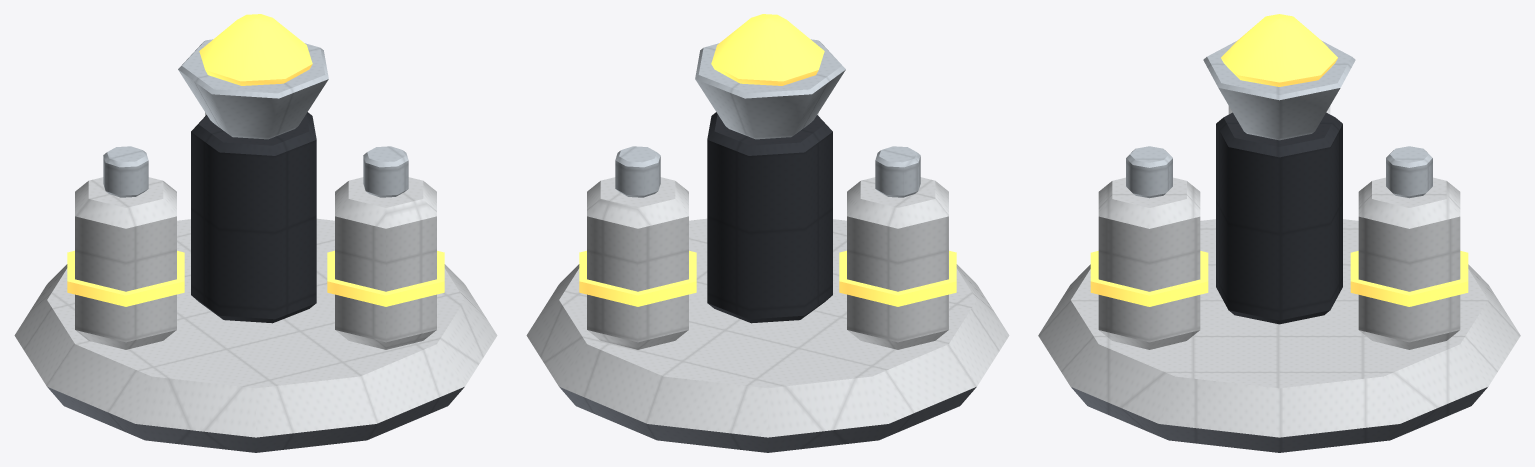
Rendered from R4D_BurnTrap_LOD1.glb.
The picture shows the model from 3 angles, left to right: view 1: azimuth 30°, elevation 25°; view 2: azimuth 150°, elevation 25°; view 3: azimuth 270°, elevation 25°; orthographic projection.
Visible parts, largest first — view 1: R4D_BurnTrap_LOD1; view 2: R4D_BurnTrap_LOD1; view 3: R4D_BurnTrap_LOD1.
Boxes of the visible parts, x1,y1,x2,y2 form: R4D_BurnTrap_LOD1: (14, 14, 497, 452); R4D_BurnTrap_LOD1: (526, 14, 1009, 452); R4D_BurnTrap_LOD1: (1038, 14, 1520, 452).
Bounding box in the file's own units: 0.37 × 0.288 × 0.37.
Materials: 5 (4 with a texture image).
